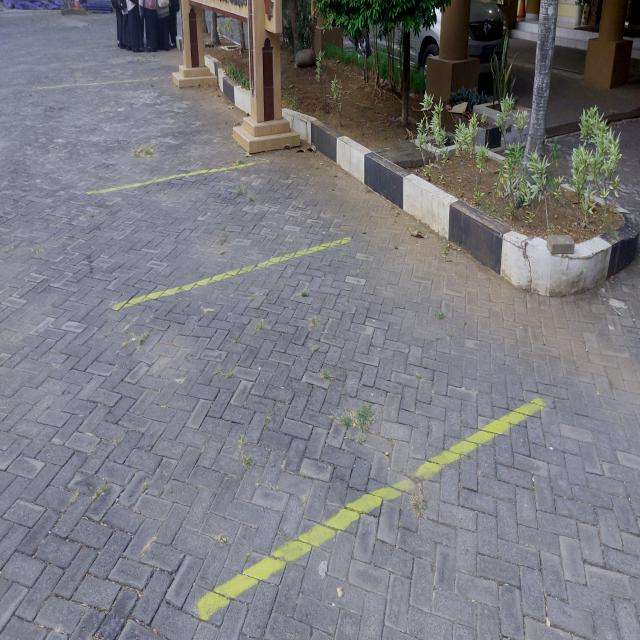empty: (121, 239, 538, 614), (90, 157, 349, 299)
